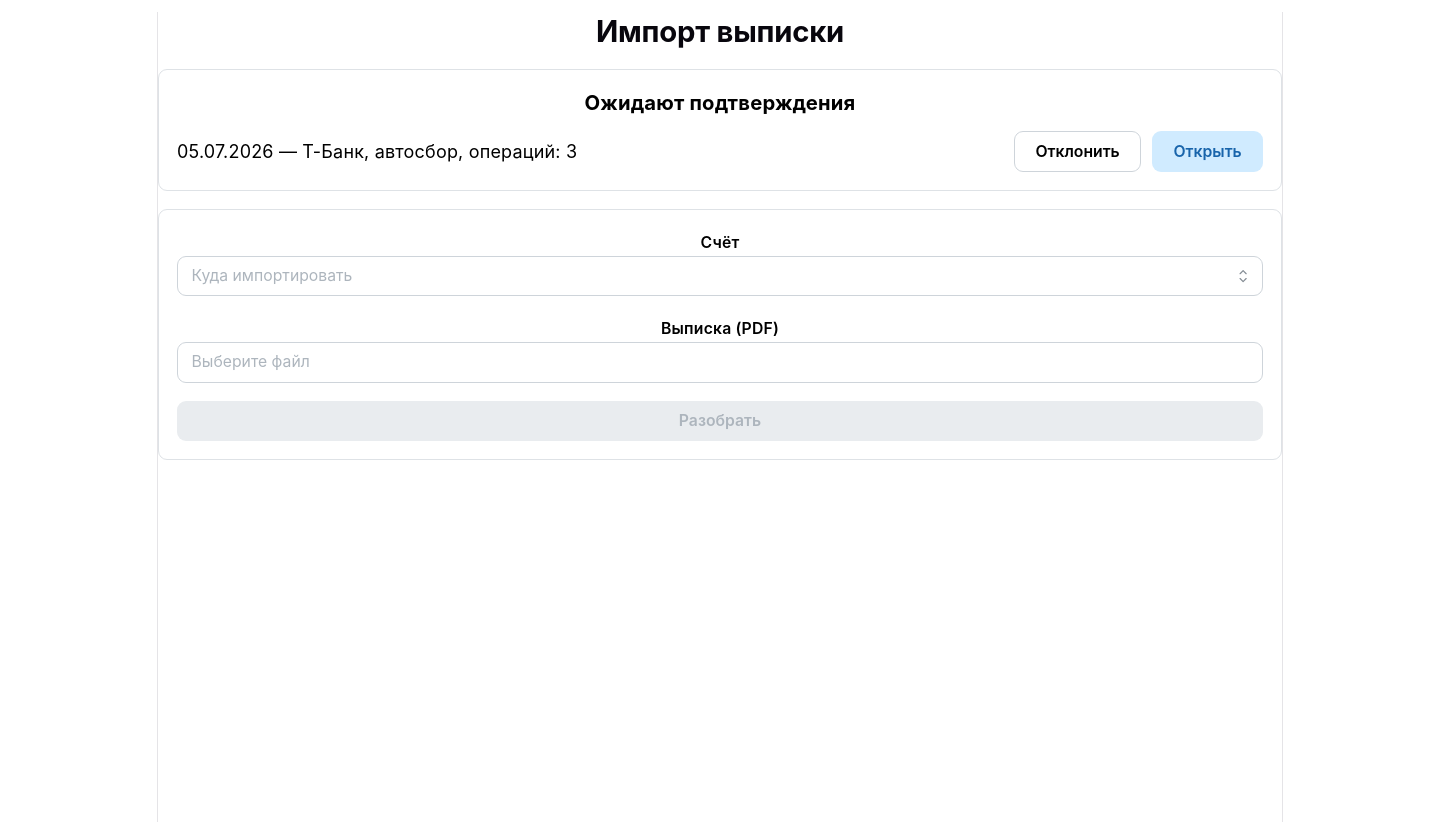
it: импорт, который сервер закрыл сам, не пропадает с экрана молча
Click the button "Открыть" at (1208, 152), box top-left (1152, 131), bottom-right (1263, 172)
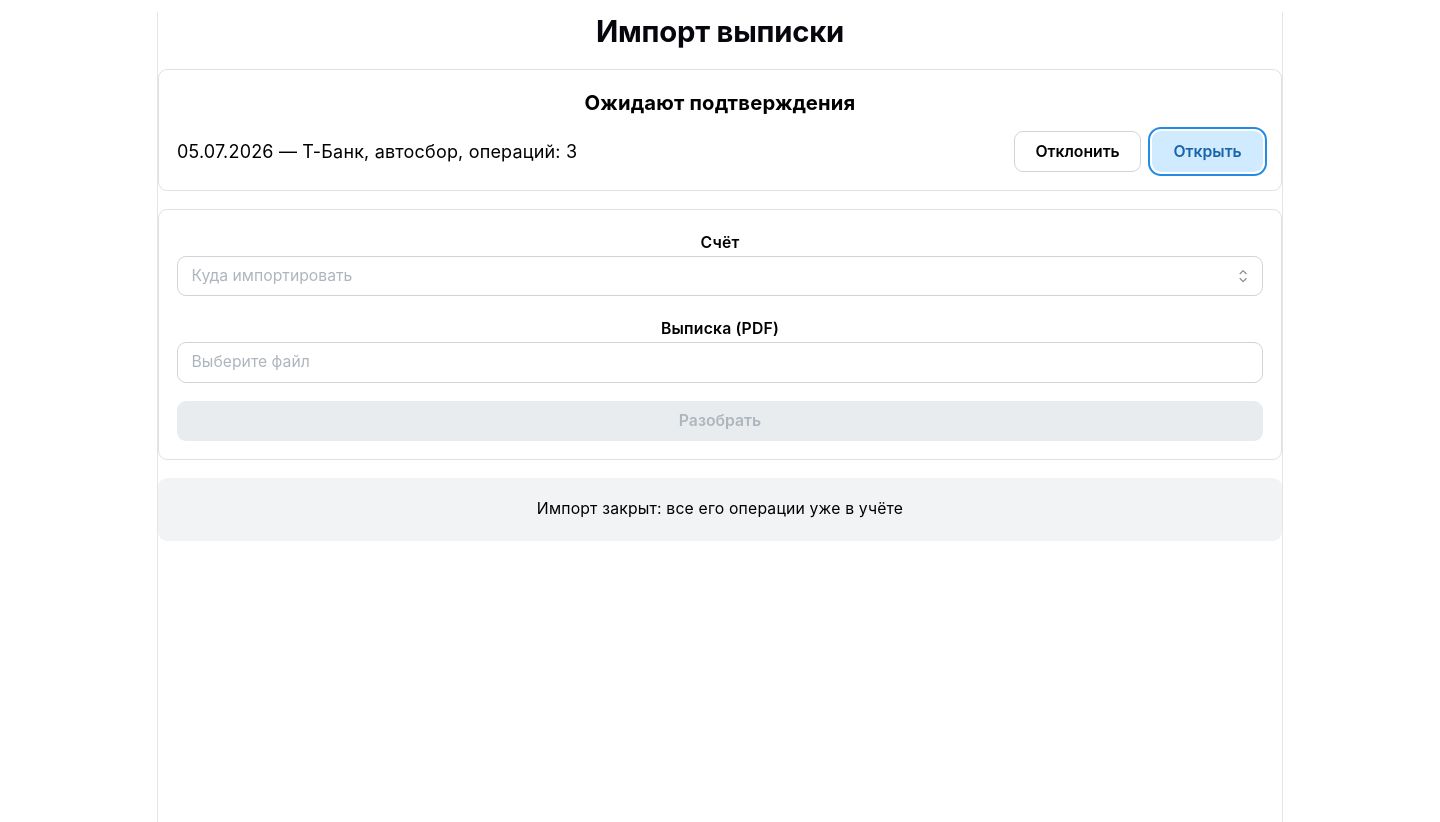
Expected: the text "Импорт закрыт: все его операции уже в учёте" is shown, top-left (537, 499), bottom-right (903, 518)
